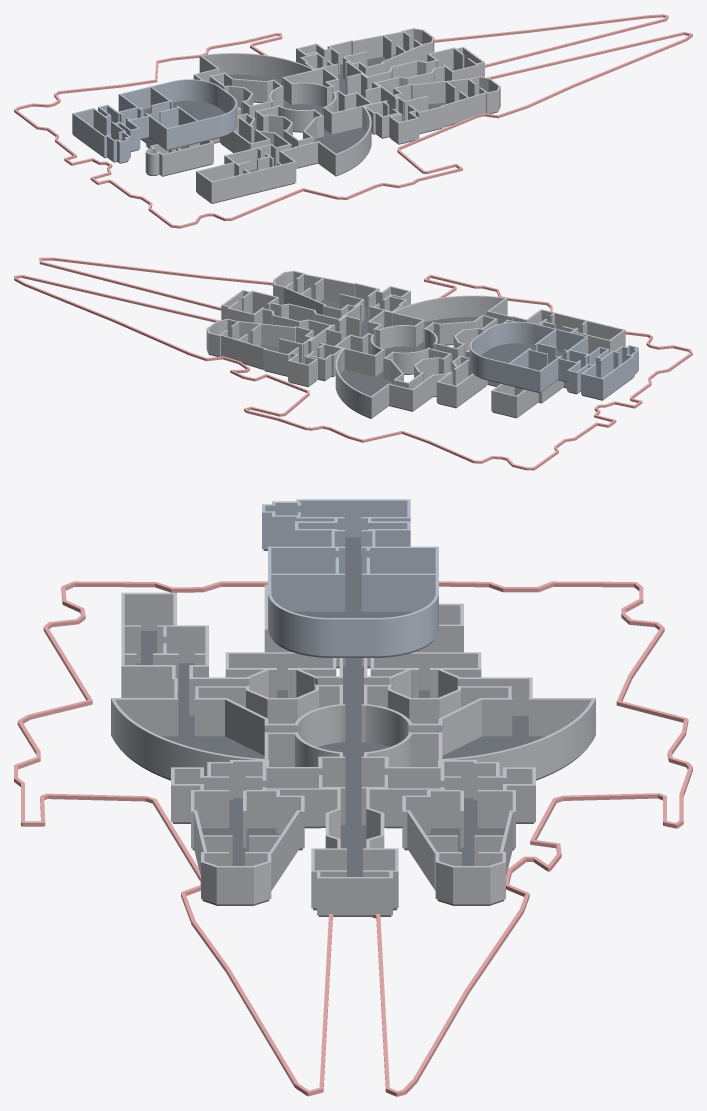
File: tianjin_graybox_WIP_NOT_APPROVED.glb
3 views of the same model, one above another, from view 1: azimuth 30°, elevation 25°; view 2: azimuth 150°, elevation 25°; view 3: azimuth 270°, elevation 25° (orthographic). The views are drawn at different scales.
Parts seen in each view (by area): view 1: main_walls, tower_walls, hull_outline, main_floor, tower_floor; view 2: main_walls, tower_walls, hull_outline, main_floor, tower_floor; view 3: main_walls, tower_walls, hull_outline, main_floor, tower_floor.
Boxes of the visible parts, x1=… form: main_walls: x1=142, y1=28, x2=500, y2=203; tower_walls: x1=72, y1=79, x2=237, y2=162; hull_outline: x1=14, y1=14, x2=692, y2=228; main_floor: x1=141, y1=54, x2=497, y2=203; tower_floor: x1=73, y1=100, x2=234, y2=163; main_walls: x1=206, y1=270, x2=625, y2=418; tower_walls: x1=469, y1=321, x2=638, y2=399; hull_outline: x1=14, y1=257, x2=692, y2=470; main_floor: x1=209, y1=297, x2=566, y2=418; tower_floor: x1=472, y1=343, x2=637, y2=400; main_walls: x1=111, y1=584, x2=595, y2=915; tower_walls: x1=262, y1=499, x2=438, y2=656; hull_outline: x1=14, y1=581, x2=692, y2=1096; main_floor: x1=119, y1=631, x2=587, y2=916; tower_floor: x1=263, y1=537, x2=434, y2=657.
Bounding box in the file's own units: 91.24 × 6.7 × 50.19.
